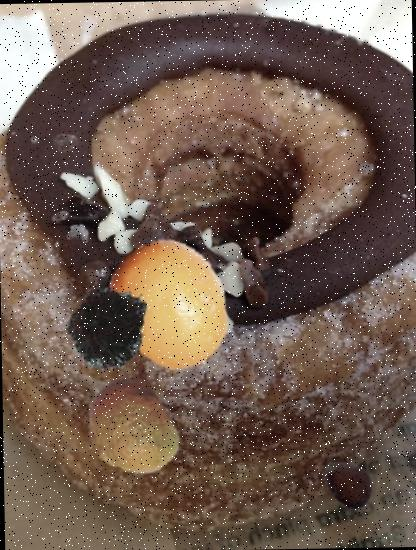Lemon: (104, 238, 240, 372)
Mandarine: (78, 376, 184, 481)
Rambutan: (66, 280, 155, 368)
Salak: (319, 453, 377, 511)
